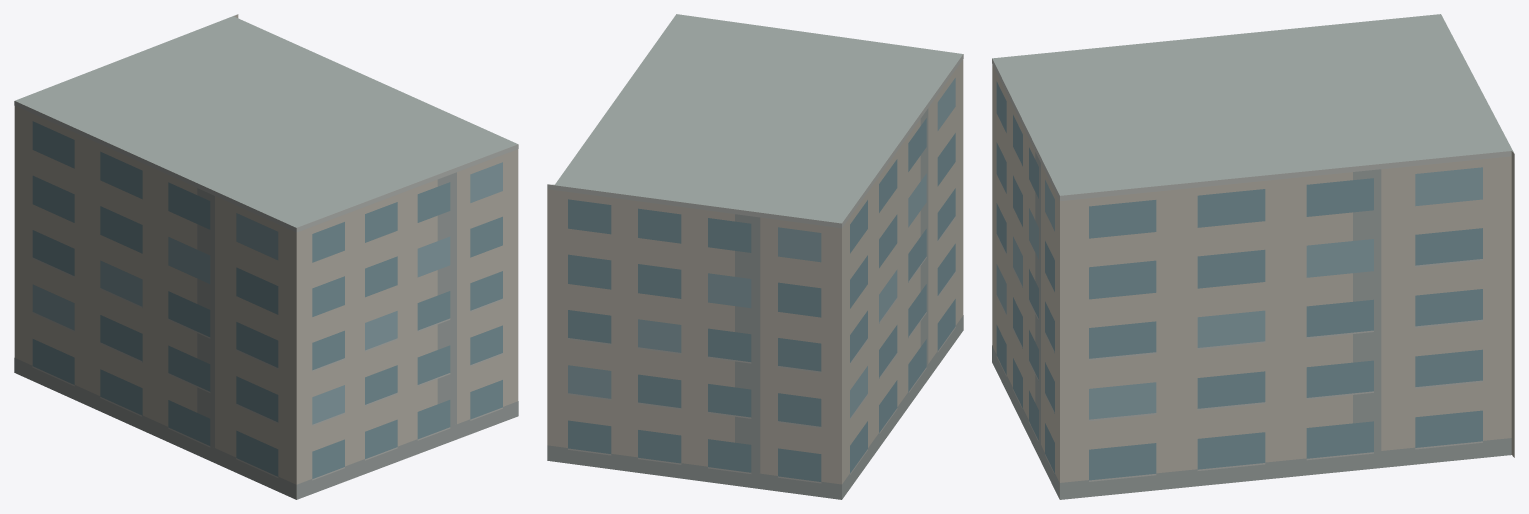
Rendered from survey-upis-32979975.glb.
3 renders of one model, left to right at view 1: azimuth 30°, elevation 25°; view 2: azimuth 150°, elevation 25°; view 3: azimuth 270°, elevation 25°, orthographic. The views are drawn at different scales.
Parts seen in each view (by area): view 1: survey-upis-32979975.tmp; view 2: survey-upis-32979975.tmp; view 3: survey-upis-32979975.tmp.
Part boxes in pixels (bbox=[...]): survey-upis-32979975.tmp: bbox=[14, 14, 518, 499]; survey-upis-32979975.tmp: bbox=[547, 14, 963, 499]; survey-upis-32979975.tmp: bbox=[992, 14, 1514, 499].
Size of the model in its own units: 17.84 by 13.9 by 21.66.
